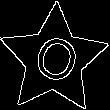O_S: (25, 28, 83, 92)
